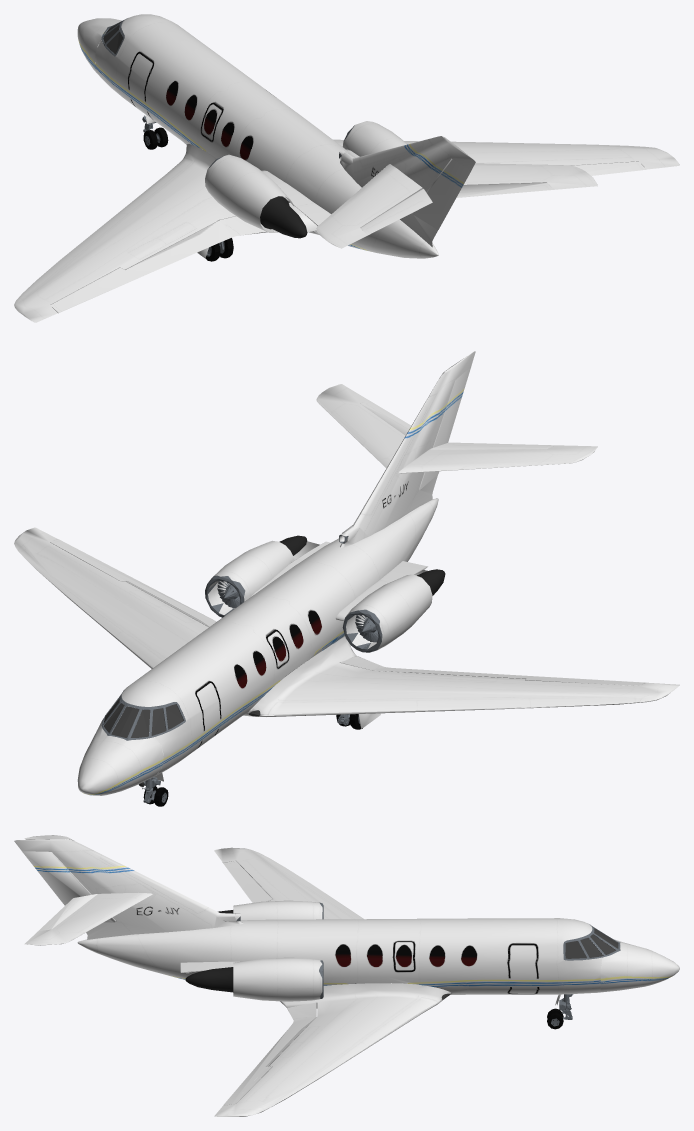
The picture shows the model from 3 angles, top to bottom: view 1: azimuth 30°, elevation 25°; view 2: azimuth 150°, elevation 25°; view 3: azimuth 270°, elevation 25°; orthographic projection. The views are drawn at different scales.
Visible parts, largest first — view 1: Cessna_Cessna_Material__15, Cessna_Cessna_Material__14; view 2: Cessna_Cessna_Material__15, Cessna_Cessna_Material__12, Cessna_Cessna_Material__11, Cessna_Cessna_Material__16; view 3: Cessna_Cessna_Material__15, Cessna_Cessna_Material__12, Cessna_Cessna_Material__16.
Part boxes in pixels (x1,y1,x2,y2): Cessna_Cessna_Material__15: (14, 14, 679, 322); Cessna_Cessna_Material__14: (143, 127, 233, 261); Cessna_Cessna_Material__15: (14, 351, 679, 795); Cessna_Cessna_Material__12: (104, 698, 260, 786); Cessna_Cessna_Material__11: (138, 535, 382, 787); Cessna_Cessna_Material__16: (101, 689, 185, 740); Cessna_Cessna_Material__15: (14, 835, 679, 1116); Cessna_Cessna_Material__12: (441, 928, 618, 1007); Cessna_Cessna_Material__16: (563, 924, 620, 960).
Size of the model in its own units: 48.61 by 15.86 by 51.03.
7 materials, 1 textured.
